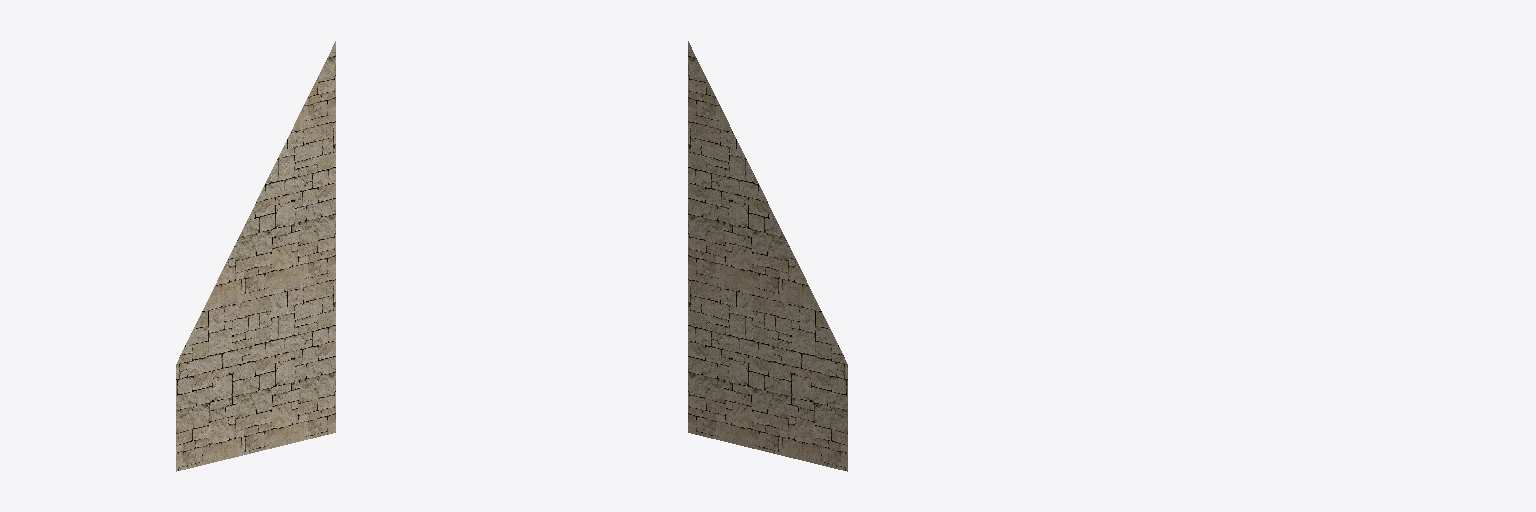
3 views of the same model, side by side, from view 1: azimuth 30°, elevation 25°; view 2: azimuth 150°, elevation 25°; view 3: azimuth 270°, elevation 25° (orthographic).
Parts seen in each view (by area): view 1: Circle.008; view 2: Circle.008; view 3: none.
Boxes of the visible parts, x1,y1,x2,y2 form: Circle.008: [176, 41, 335, 471]; Circle.008: [688, 41, 847, 471].
Size of the model in its own units: 21.97 by 51.44 by 0.
1 materials, 1 textured.